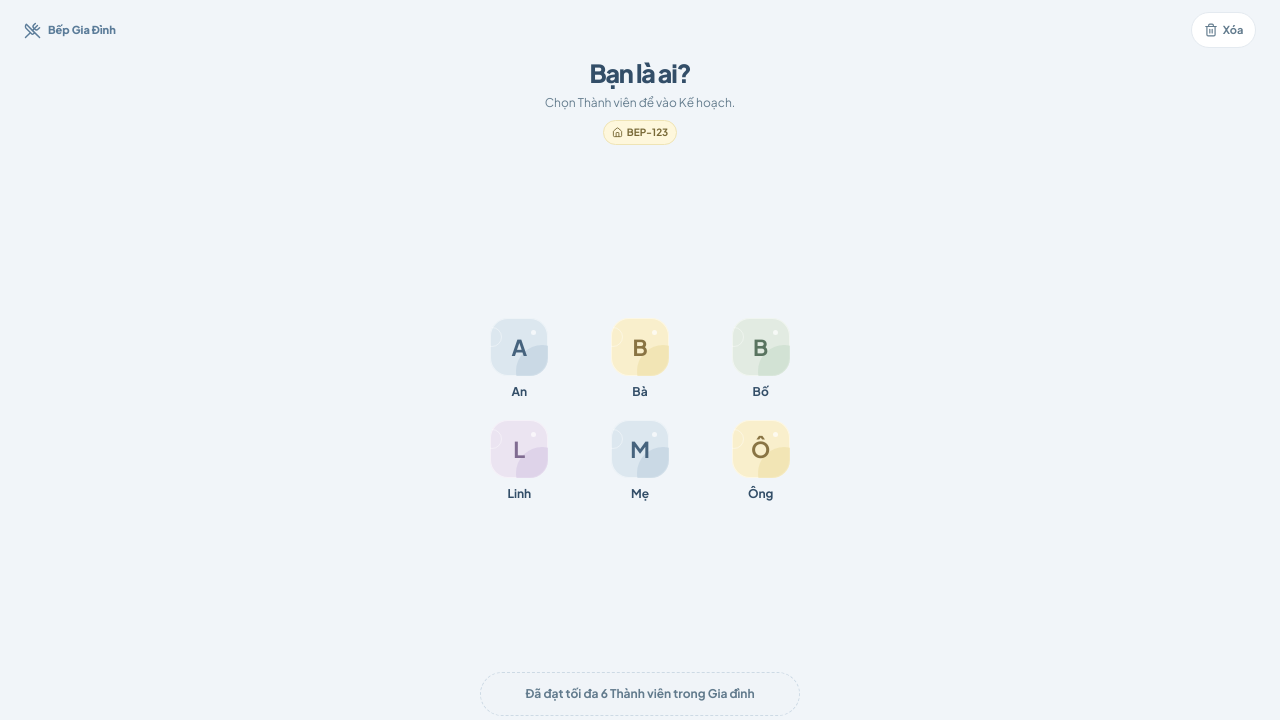
MemberSelection Component (Ticket 01) › Floating Toast and Delete Management Mode (Ticket 03) › hides capacity notice when entering delete mode with 6 members and restores it when exiting
Expected: the element with class "ms-add-area" is shown, [480,672,800,716]
# Enter delete mode
Click the button "Xóa". click: {"x": 1224, "y": 30}
box: [1191,12,1256,48]
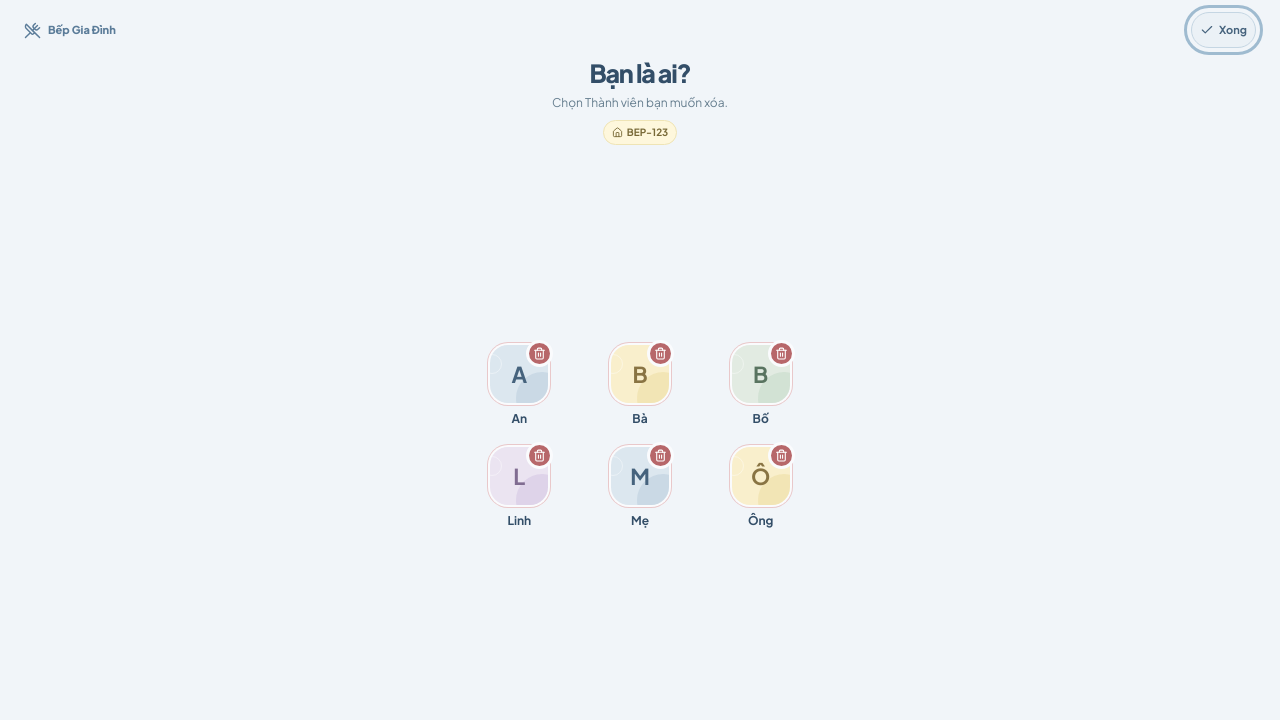
Expected: the text "Đã đạt tối đa 6 Thành viên trong Gia đình" is gone
Expected: the element with class "ms-add-area" is gone
# Exit delete mode
Click the button "Xong". click: {"x": 1224, "y": 30}
box: [1191,12,1256,48]
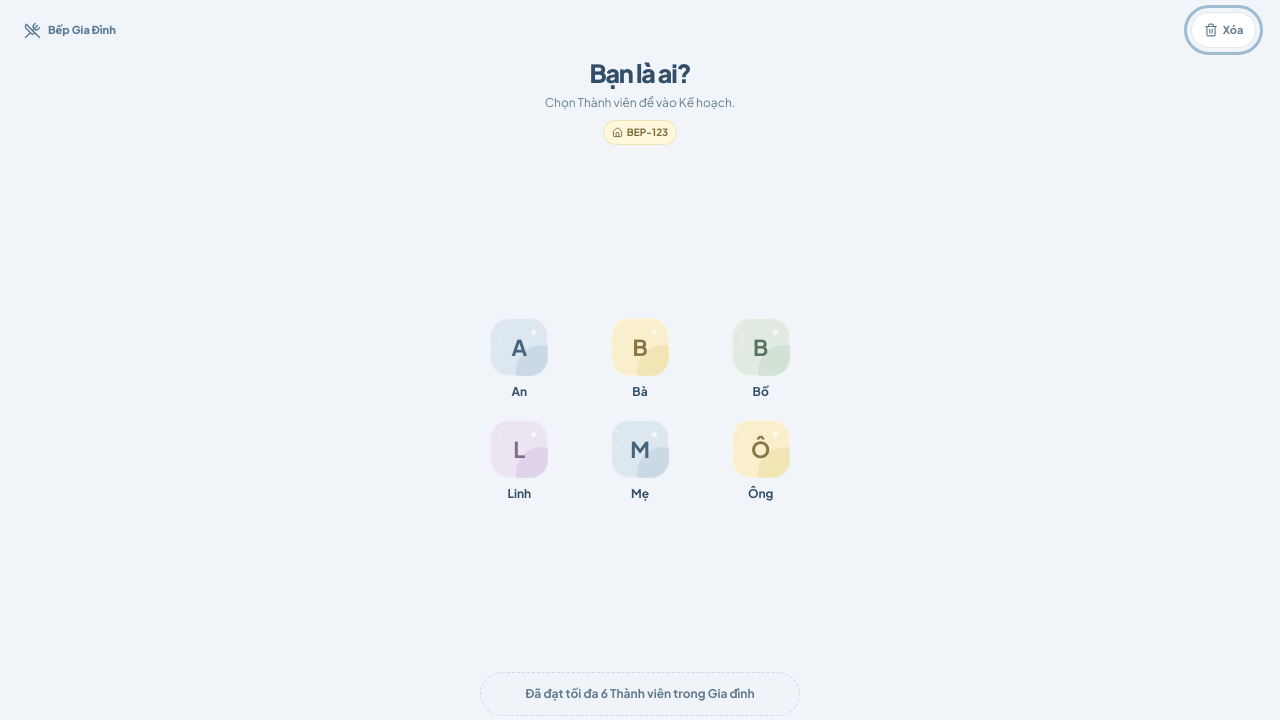
Expected: the element with class "ms-add-area" is shown, [480,672,800,716]
